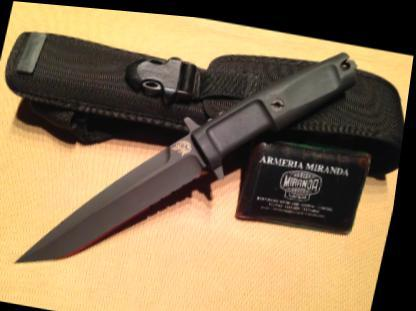knife: (15, 104, 222, 294)
